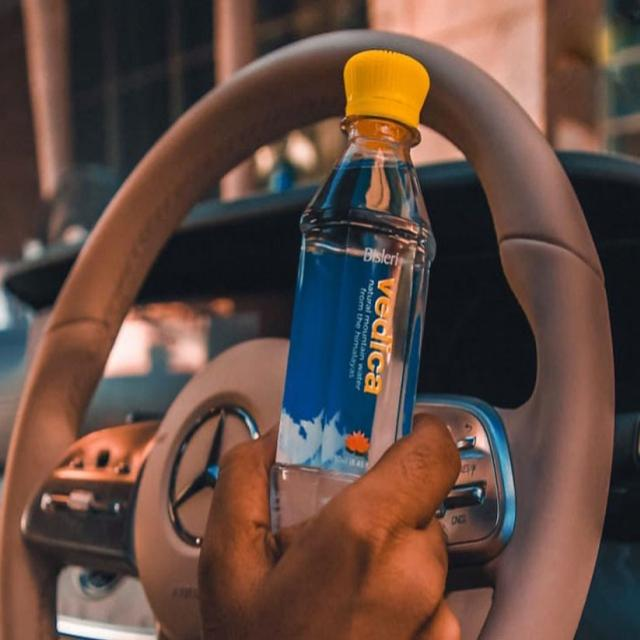bottle: (277, 13, 454, 638)
